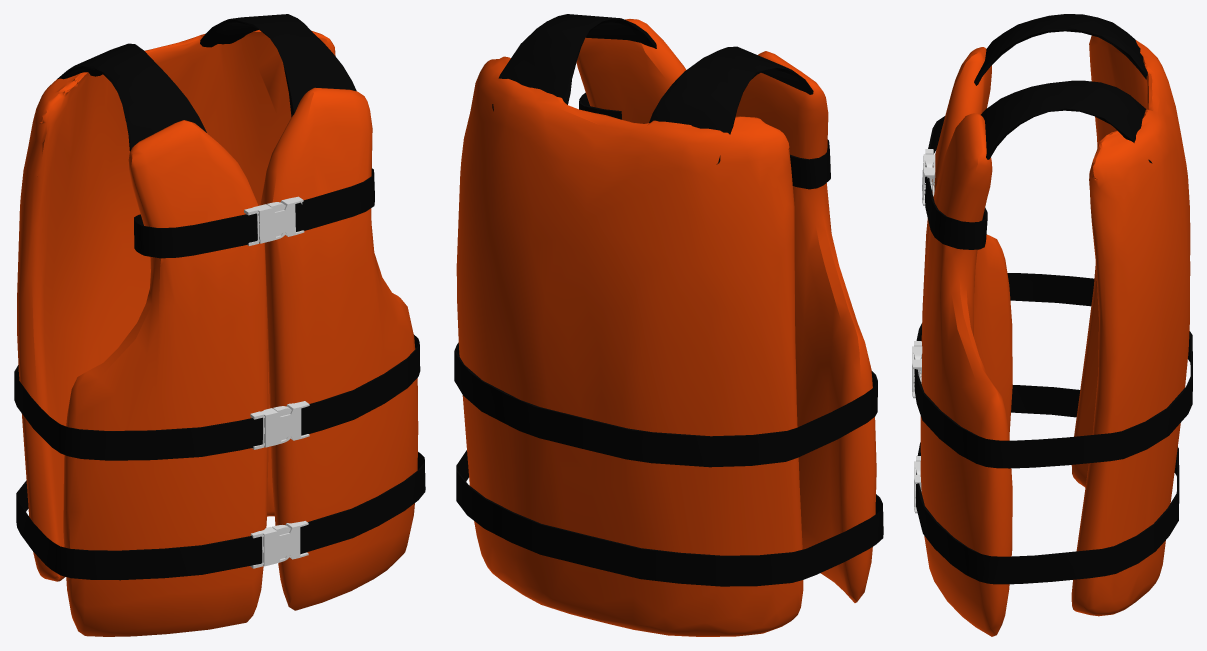
File: Pelampung.glb
The picture shows the model from 3 angles, left to right: view 1: azimuth 30°, elevation 25°; view 2: azimuth 150°, elevation 25°; view 3: azimuth 270°, elevation 25°; orthographic projection. The views are drawn at different scales.
Parts seen in each view (by area): view 1: SHOULDER_2; view 2: SHOULDER_2; view 3: SHOULDER_2.
Boxes of the visible parts, x1,y1,x2,y2 form: SHOULDER_2: (14, 14, 425, 636); SHOULDER_2: (454, 14, 883, 636); SHOULDER_2: (912, 14, 1192, 636).
Bounding box in the file's own units: 0.5034 × 0.6947 × 0.3472.
